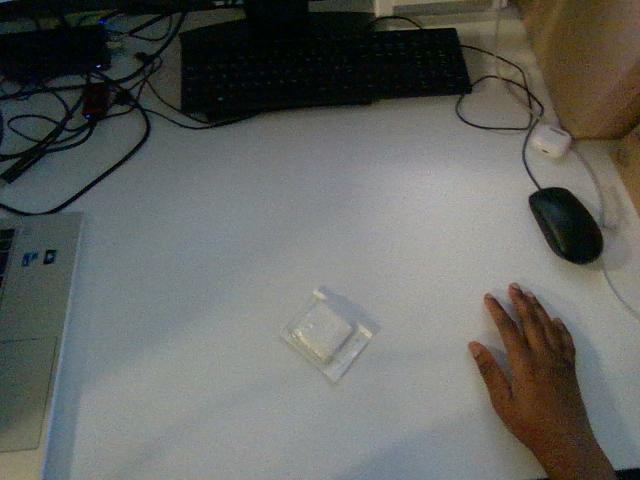gauze: (282, 287, 373, 381)
